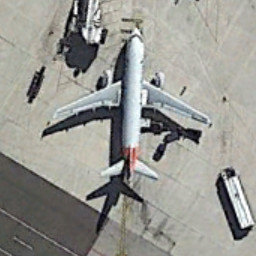Airplane: (35, 21, 215, 192)
